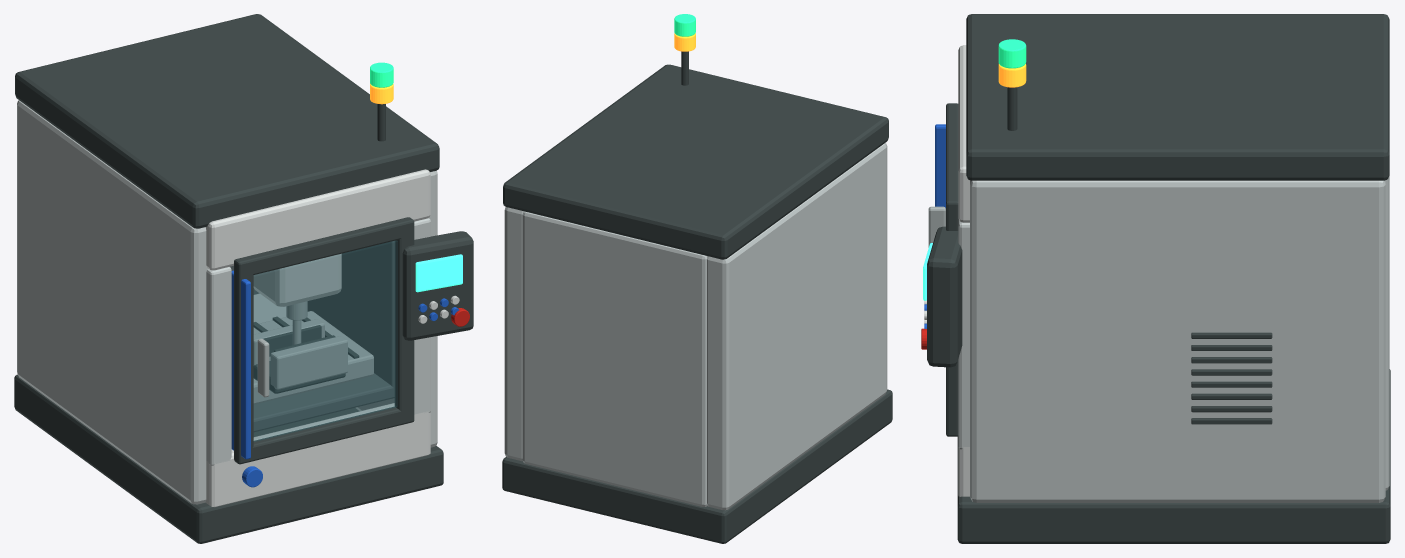
File: cellforge-vmc.glb
The picture shows the model from 3 angles, left to right: view 1: azimuth 30°, elevation 25°; view 2: azimuth 150°, elevation 25°; view 3: azimuth 270°, elevation 25°; orthographic projection. The views are drawn at different scales.
Parts seen in each view (by area): view 1: Shell_Left, Shell_Roof, DoorGlass, Shell_Base, Shell_FrontHeader, Shell_FrontApron, Interior_RightLiner, Control_Body, Shell_LeftJamb, Interior_Floor, Door_Frame_Top, Door_Frame_Bottom (+14 smaller); view 2: Shell_Back, Shell_Left, Shell_Roof, Shell_Base, Shell_Right; view 3: Shell_Right, Shell_Roof, Shell_Base, Control_Body, Shell_RightJamb, Shell_FrontHeader, Shell_Back, Door_Frame_Right, Door_Frame_Top, Shell_Accent, StackLight_Green, Shell_FrontApron (+8 smaller).
Part boxes in pixels (x1,y1,x2,y2): Shell_Left: (17,100,208,504); Shell_Roof: (15,14,439,228); DoorGlass: (254,240,397,441); Shell_Base: (14,374,443,543); Shell_FrontHeader: (205,169,430,270); Shell_FrontApron: (205,403,430,507); Interior_RightLiner: (307,241,394,387); Control_Body: (402,231,473,340); Shell_LeftJamb: (206,267,231,465); Interior_Floor: (253,373,394,432); Door_Frame_Top: (238,220,410,274); Door_Frame_Bottom: (243,406,410,463); Shell_Back: (522,211,707,506); Shell_Left: (707,143,887,510); Shell_Roof: (503,64,888,259); Shell_Base: (502,389,892,543); Shell_Right: (504,207,523,461); Shell_Right: (970,180,1385,502); Shell_Roof: (966,14,1389,180); Shell_Base: (957,369,1390,543); Control_Body: (927,226,962,367); Shell_RightJamb: (958,218,969,449); Shell_FrontHeader: (958,45,969,222); Shell_Back: (1385,176,1389,490); Door_Frame_Right: (946,194,958,436); Door_Frame_Top: (946,110,958,201); Shell_Accent: (935,124,945,208); StackLight_Green: (998,39,1026,68); Shell_FrontApron: (958,447,969,496).
Bounding box in the file's own units: 1.85 × 2.76 × 2.44.
